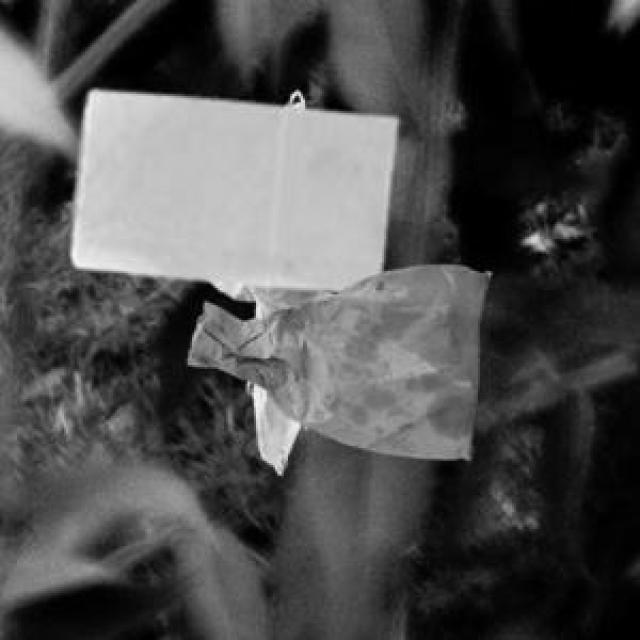paper: (68, 88, 392, 288), (185, 260, 486, 457)
